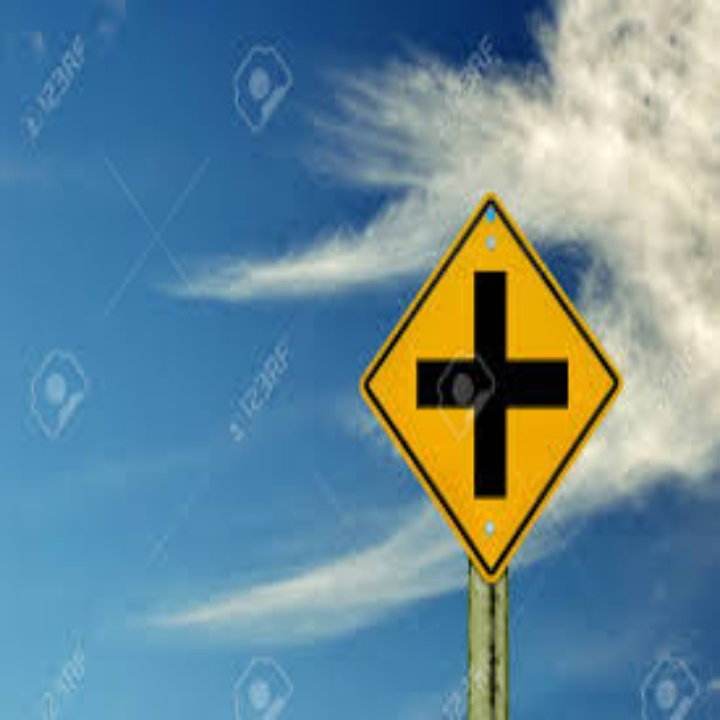inter: (407, 261, 573, 503)
